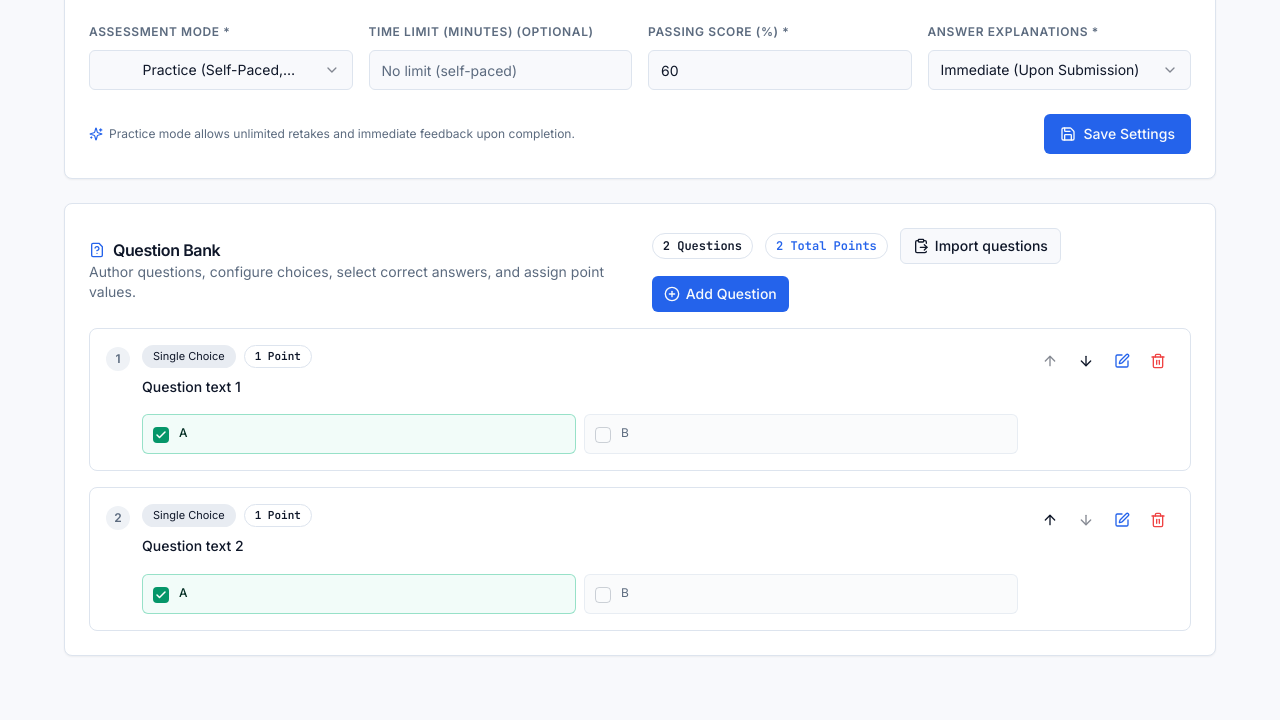
Test: Quiz authoring: deleting a question asks first › opens a destructive confirmation (focus on Cancel) instead of window.confirm
(page scrolled)
Click the button named "Delete question 2". click: (1158, 520)
box: [1142, 504, 1174, 536]
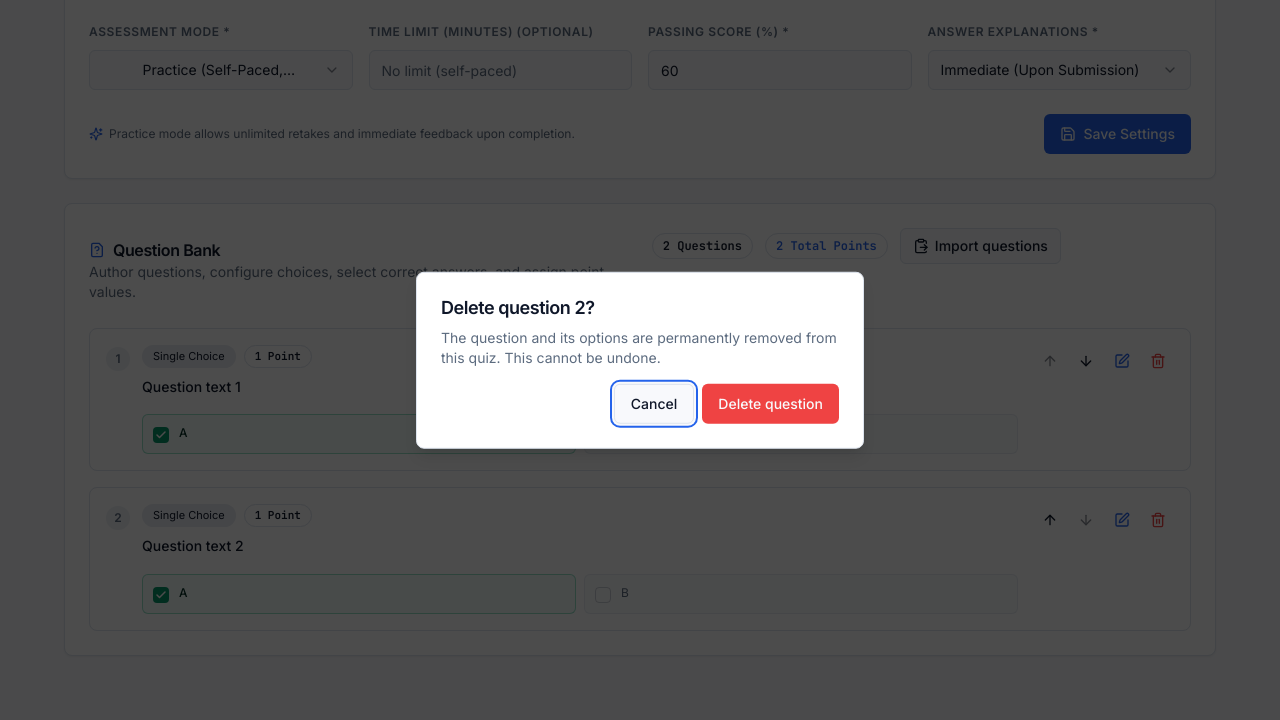
Now the heading "Delete question 2?" is shown, box [441, 297, 595, 318]
